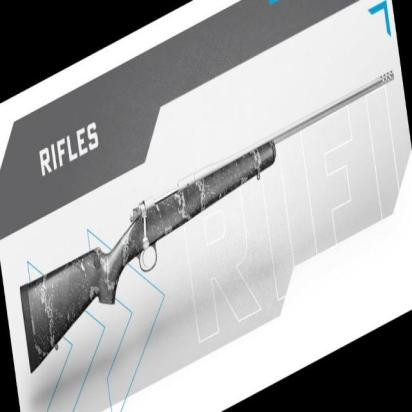Gun: (20, 64, 396, 378)
